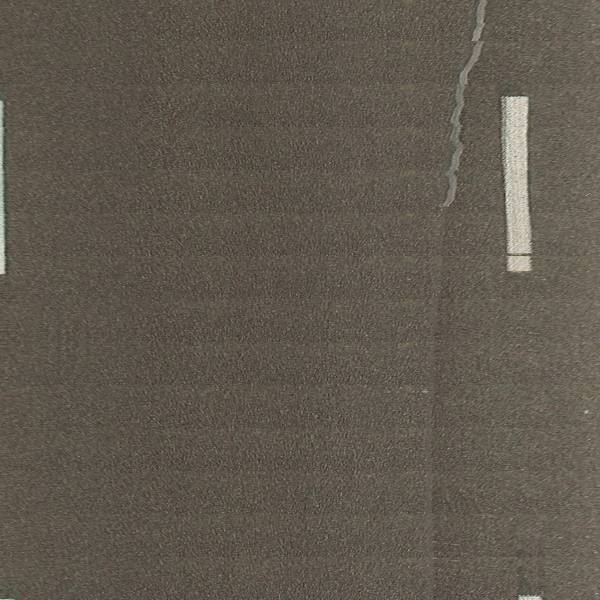road_damage: (437, 1, 492, 211)
